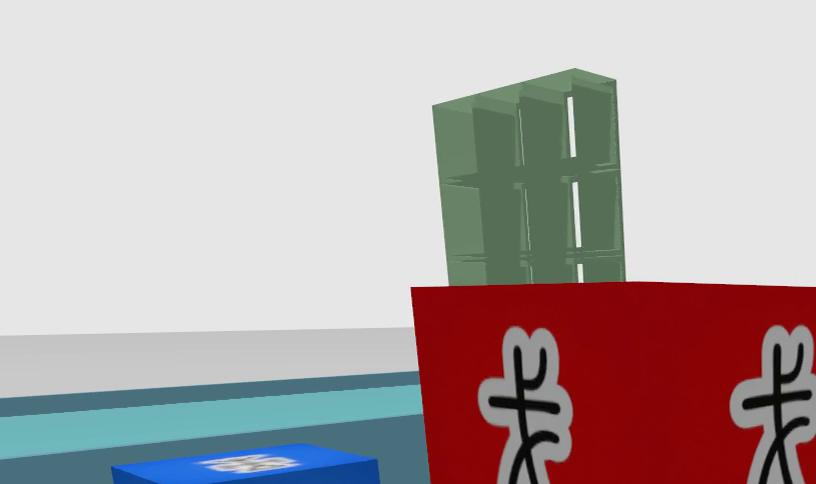KFS_FAKE: (413, 282, 816, 484), (478, 327, 572, 484), (731, 325, 816, 484)
KFS_REAL: (111, 444, 380, 484), (200, 454, 298, 472)
